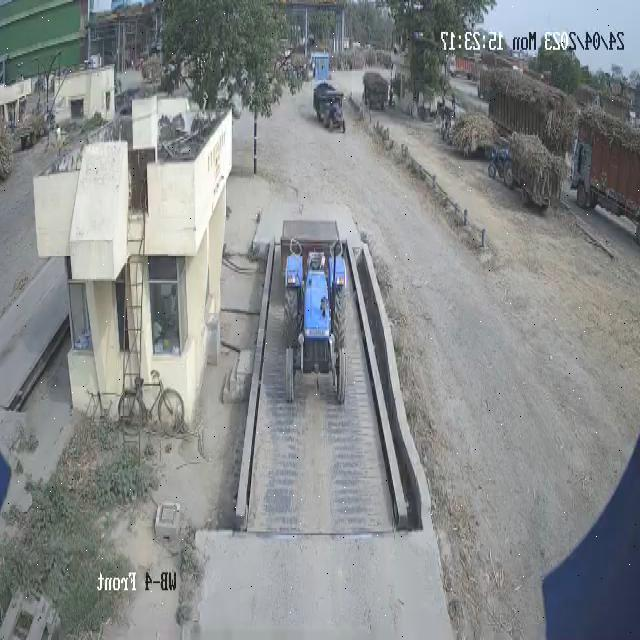Tratores - v5 YOLO V8L 2024-11-13: (280, 215, 349, 420), (485, 134, 518, 191)
